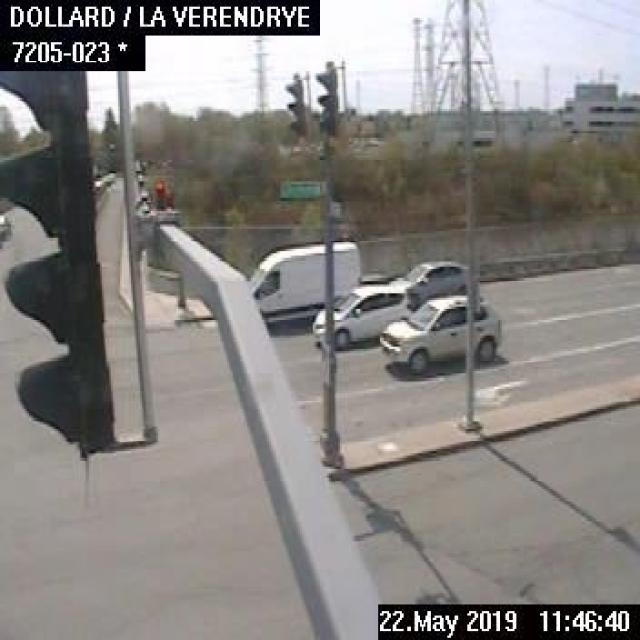vehicle: (378, 293, 497, 380), (249, 240, 363, 326), (312, 277, 409, 349), (384, 255, 475, 311), (0, 213, 11, 244)
